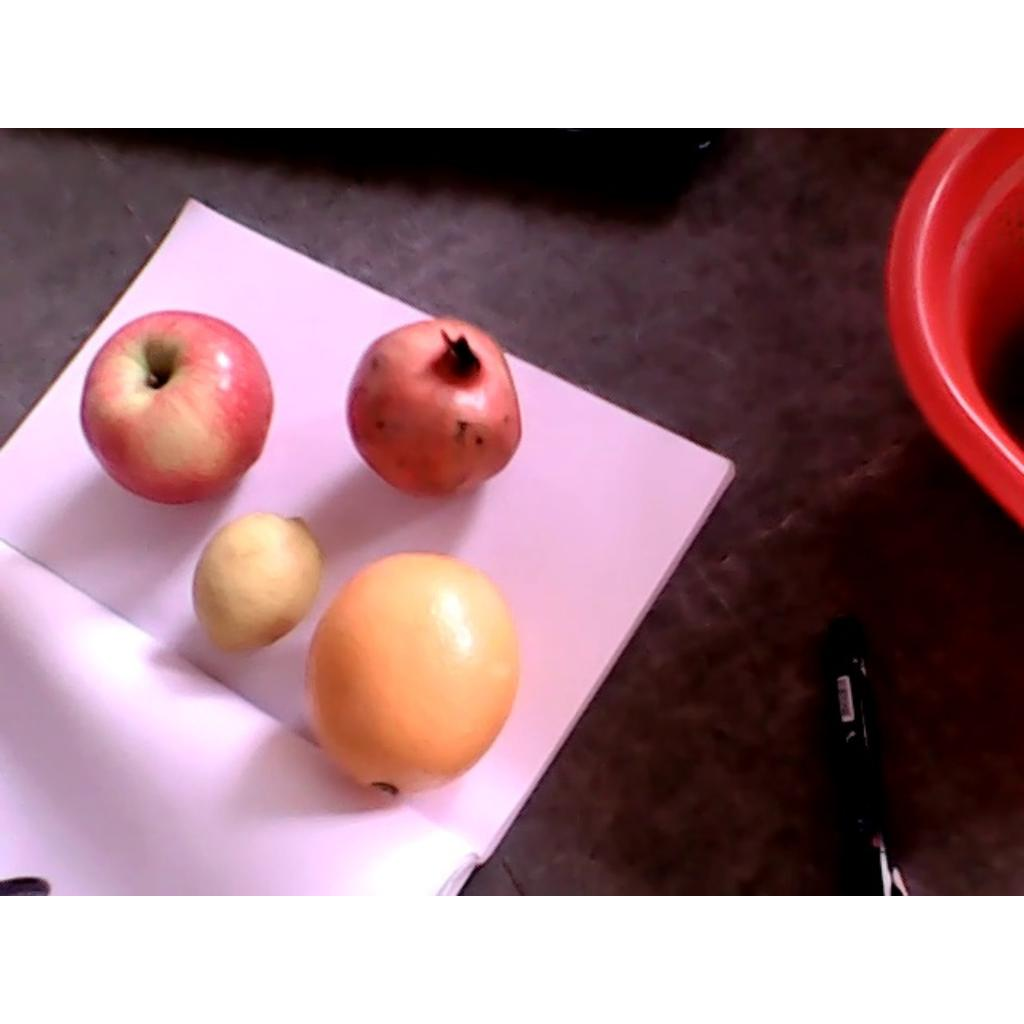apple: (79, 311, 273, 505)
lemon: (193, 514, 321, 656)
orange: (304, 549, 521, 797)
pomegranate: (347, 318, 522, 497)
